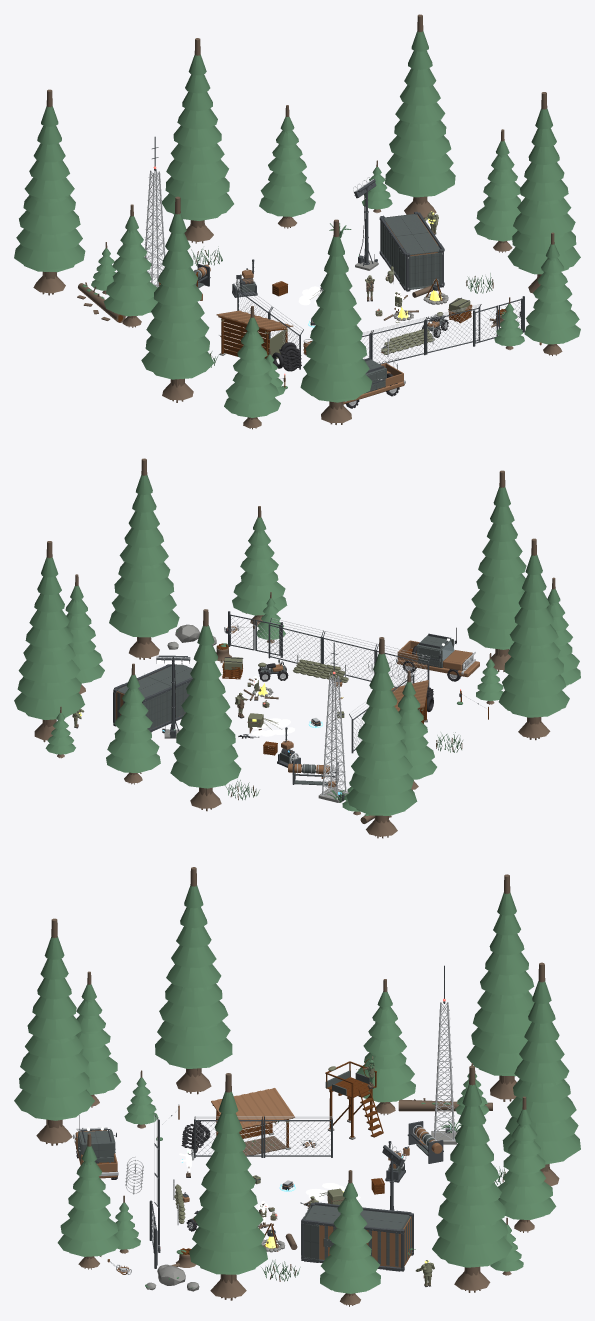
The model's file is fps-survival-forest-outpost-extraction-pad-clearing-d8d8ed40__32711.glb.
3 renders of one model, top to bottom at view 1: azimuth 30°, elevation 25°; view 2: azimuth 150°, elevation 25°; view 3: azimuth 270°, elevation 25°, orthographic. The views are drawn at different scales.
Parts seen in each view (by area): view 1: 050-conifer-tall/1, 046-conifer-tall/1, 049-conifer-tall/1, 048-conifer-tall/1, 047-conifer-tall/1, 045-conifer-tall/1, 009-shipping-container-open/1, 053-conifer-mid/1, 055-conifer-mid/1, 051-conifer-mid/1, 054-conifer-mid/1, 052-conifer-mid/1 (+17 smaller); view 2: 049-conifer-tall/1, 047-conifer-tall/1, 045-conifer-tall/1, 048-conifer-tall/1, 046-conifer-tall/1, 050-conifer-tall/1, 053-conifer-mid/1, 051-conifer-mid/1, 009-shipping-container-open/1, 054-conifer-mid/1, 052-conifer-mid/1, 008-radio-mast/1 (+14 smaller); view 3: 050-conifer-tall/1, 046-conifer-tall/1, 049-conifer-tall/1, 045-conifer-tall/1, 048-conifer-tall/1, 047-conifer-tall/1, 051-conifer-mid/1, 052-conifer-mid/1, 053-conifer-mid/1, 054-conifer-mid/1, 009-shipping-container-open/1, 055-conifer-mid/1 (+19 smaller).
Part boxes in pixels (x1,y1,x2,y2): 050-conifer-tall/1: [300, 236, 372, 402]; 046-conifer-tall/1: [385, 31, 455, 197]; 049-conifer-tall/1: [141, 213, 213, 379]; 048-conifer-tall/1: [14, 106, 85, 272]; 047-conifer-tall/1: [162, 55, 233, 220]; 045-conifer-tall/1: [507, 108, 580, 274]; 009-shipping-container-open/1: [380, 214, 441, 289]; 053-conifer-mid/1: [259, 116, 315, 216]; 055-conifer-mid/1: [224, 317, 280, 417]; 051-conifer-mid/1: [524, 244, 580, 344]; 054-conifer-mid/1: [103, 216, 157, 316]; 052-conifer-mid/1: [474, 141, 521, 241]; 049-conifer-tall/1: [498, 555, 569, 717]; 047-conifer-tall/1: [170, 625, 241, 788]; 045-conifer-tall/1: [109, 475, 179, 637]; 048-conifer-tall/1: [346, 653, 417, 815]; 046-conifer-tall/1: [14, 557, 84, 719]; 050-conifer-tall/1: [467, 486, 526, 649]; 053-conifer-mid/1: [106, 674, 160, 772]; 051-conifer-mid/1: [232, 517, 287, 615]; 009-shipping-container-open/1: [117, 664, 192, 729]; 054-conifer-mid/1: [398, 682, 436, 779]; 052-conifer-mid/1: [65, 585, 104, 683]; 008-radio-mast/1: [321, 674, 347, 799]; 050-conifer-tall/1: [14, 936, 94, 1120]; 046-conifer-tall/1: [432, 1083, 512, 1267]; 049-conifer-tall/1: [155, 885, 232, 1068]; 045-conifer-tall/1: [189, 1091, 267, 1274]; 048-conifer-tall/1: [466, 892, 534, 1076]; 047-conifer-tall/1: [502, 981, 580, 1164]; 051-conifer-mid/1: [57, 1146, 120, 1256]; 052-conifer-mid/1: [320, 1183, 380, 1293]; 053-conifer-mid/1: [498, 1109, 556, 1219]; 054-conifer-mid/1: [357, 991, 415, 1102]; 009-shipping-container-open/1: [301, 1205, 411, 1266]; 055-conifer-mid/1: [76, 984, 120, 1094].
Bounding box in the file's own units: 33.16 × 14.14 × 32.58.
16 materials, 3 textured.
